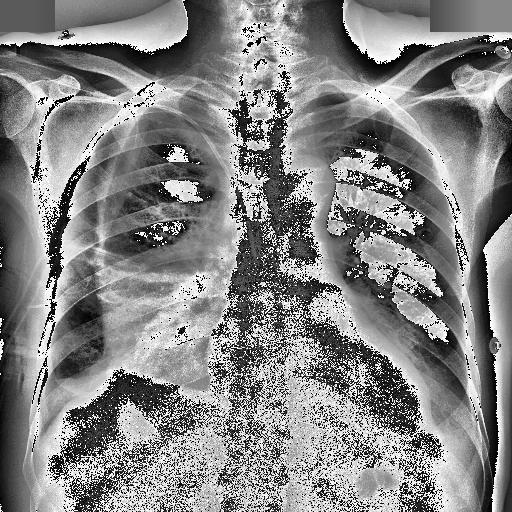1- Atelectasis: (96, 252, 214, 388)
11- Pleural thickening: (93, 88, 196, 260), (93, 86, 181, 252)
3- Cardiomegaly: (209, 318, 439, 440), (208, 327, 440, 442)
4- Consolidation: (95, 263, 232, 383), (94, 258, 222, 386)
7- Lung Opacity: (36, 368, 110, 434), (36, 373, 106, 425), (39, 370, 100, 421)
9- Other lesion: (90, 108, 154, 249)
